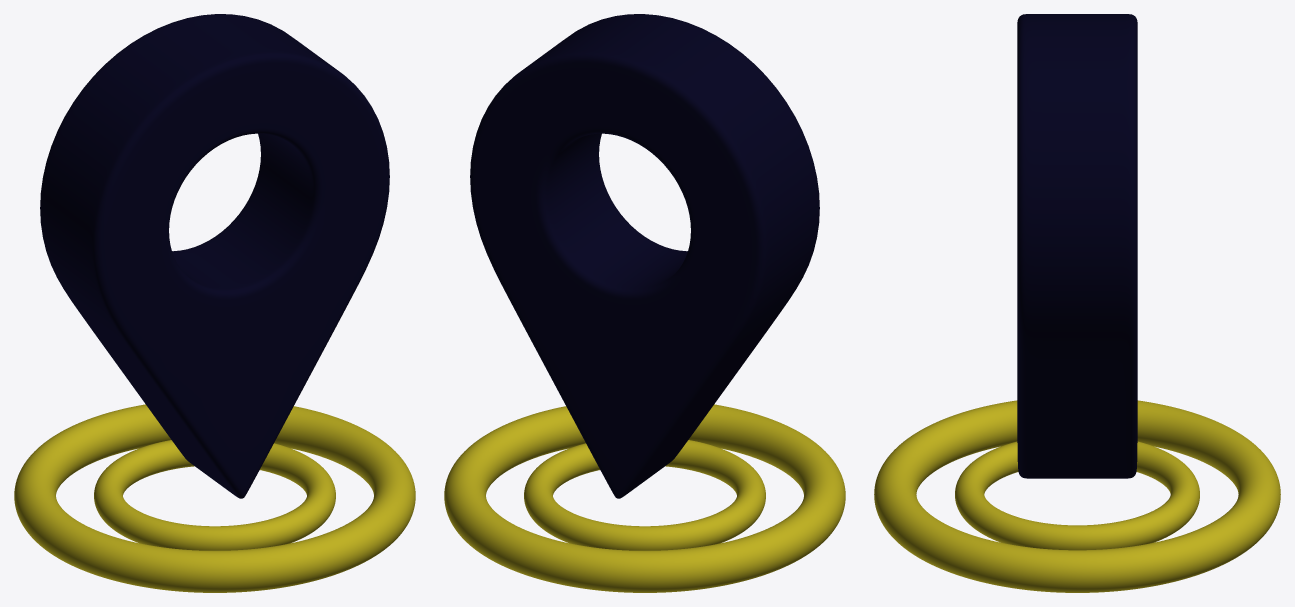
Rendered from mapfin.glb.
The picture shows the model from 3 angles, left to right: view 1: azimuth 30°, elevation 25°; view 2: azimuth 150°, elevation 25°; view 3: azimuth 270°, elevation 25°; orthographic projection.
Visible parts, largest first — view 1: Map-Pin; view 2: Map-Pin; view 3: Map-Pin.
Part boxes in pixels (left/top/right/bottom): Map-Pin: left=14, top=14, right=415, bottom=592; Map-Pin: left=444, top=14, right=845, bottom=592; Map-Pin: left=874, top=14, right=1280, bottom=592.
Bounding box in the file's own units: 1.46 × 1.91 × 1.46.
